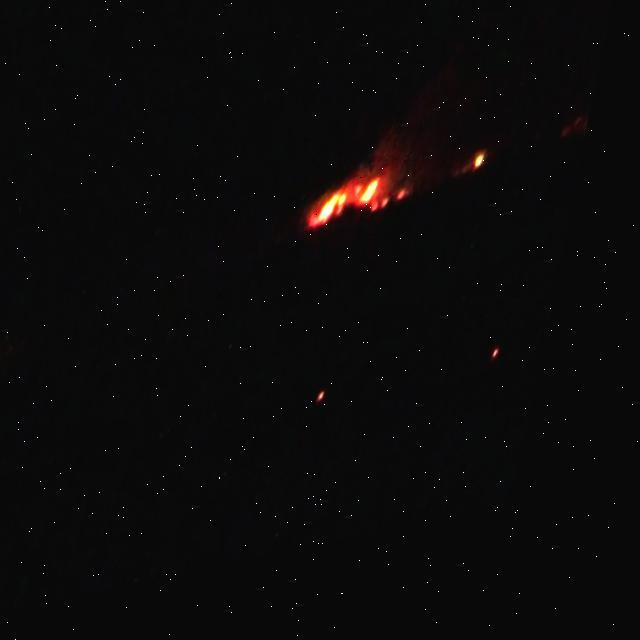Fire: (317, 183, 425, 246), (483, 171, 498, 195)
